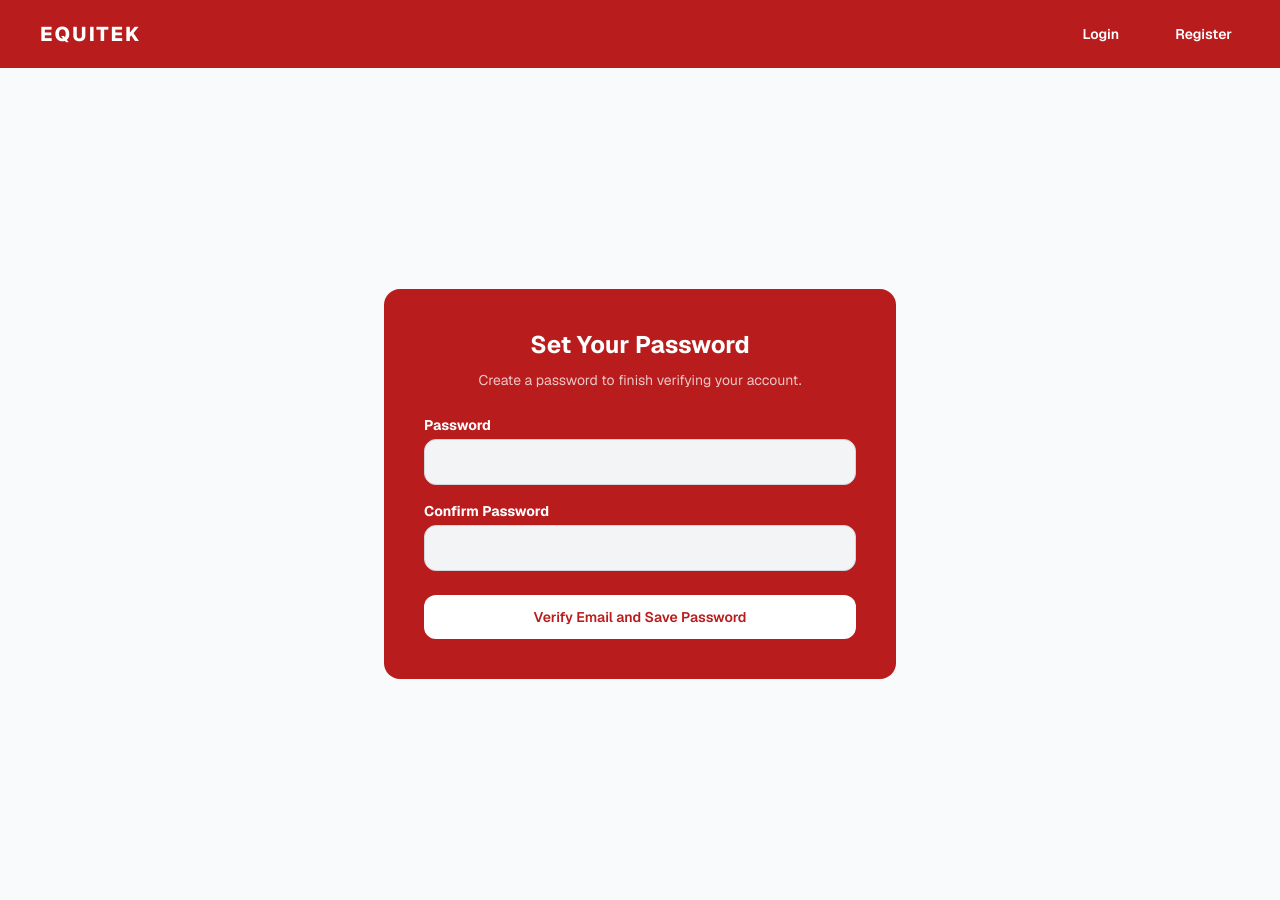
Scenario: Verify Email Page › shows success state after valid validation and submit
Expected: the heading "Set Your Password" is shown, [530,329,750,360]
Type "Strong#123" into the password field labelled "Password" at (640, 462), box [424,439,856,485]
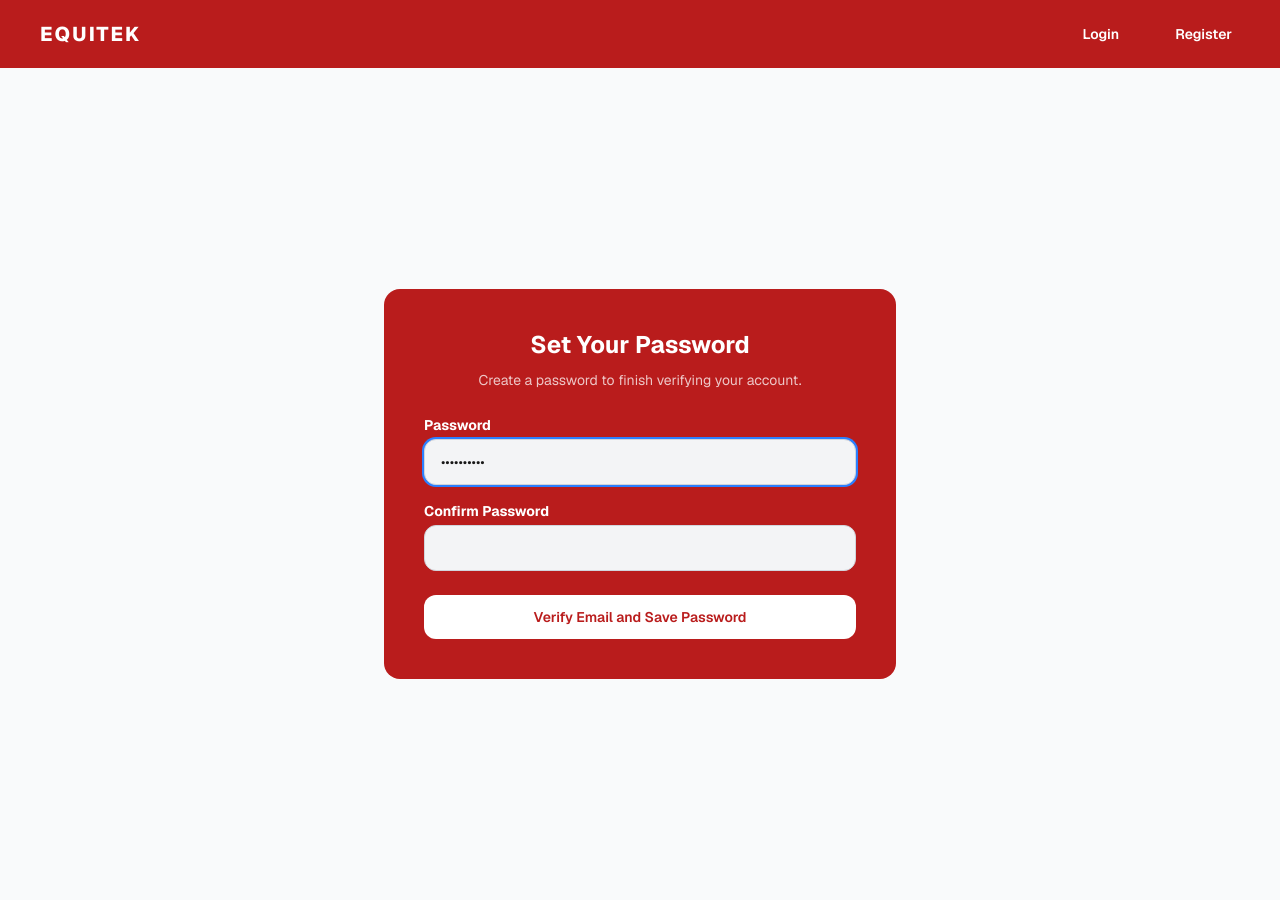
Type "Strong#123" into the password field labelled "Confirm Password" at (640, 548), box [424,525,856,571]
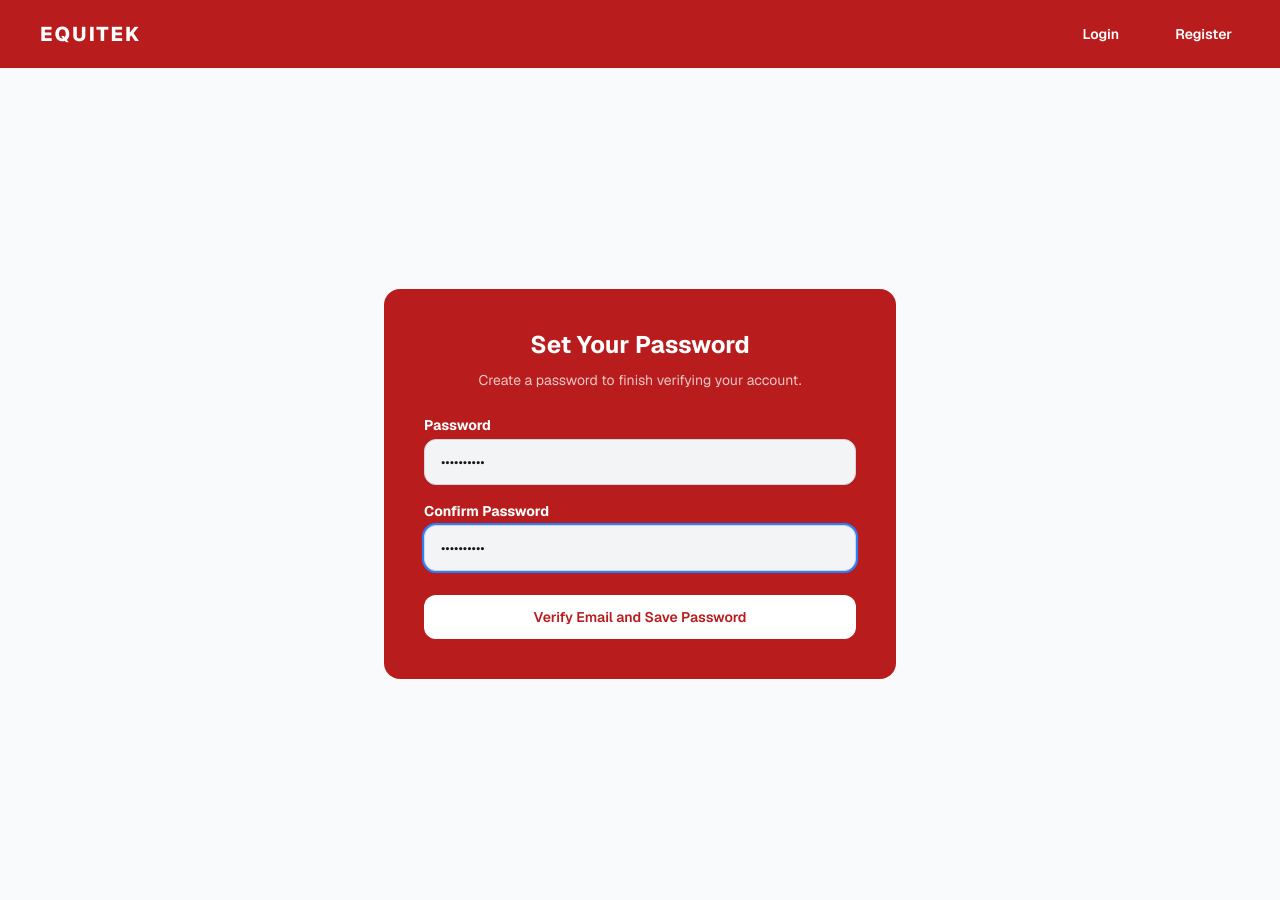
Click the button "Verify Email and Save Password" at (640, 617), box [424,595,856,639]
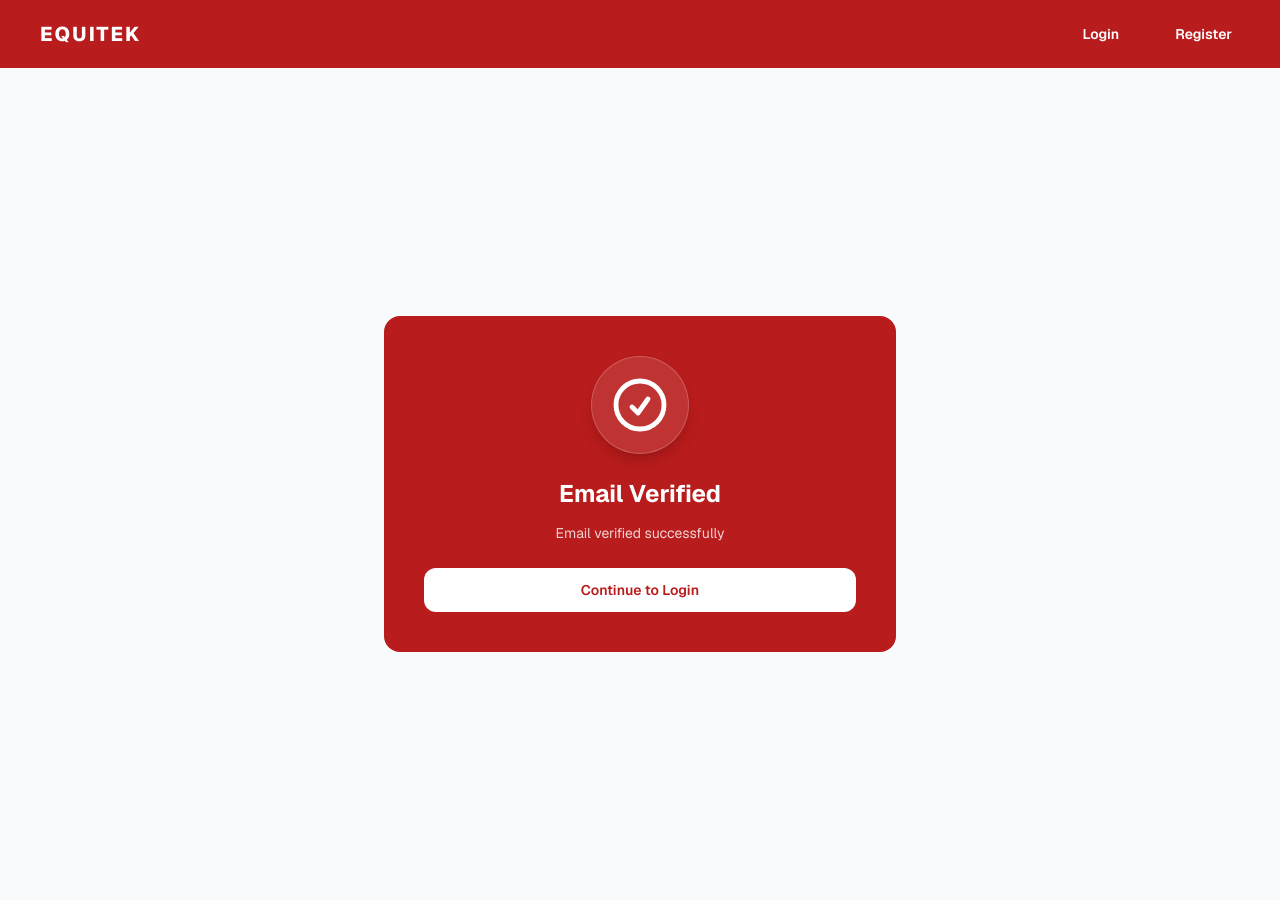
Expected: the text "Email verified successfully" is shown, [556,522,724,544]
Expected: the link "Continue to Login" is shown, [424,568,856,612]
